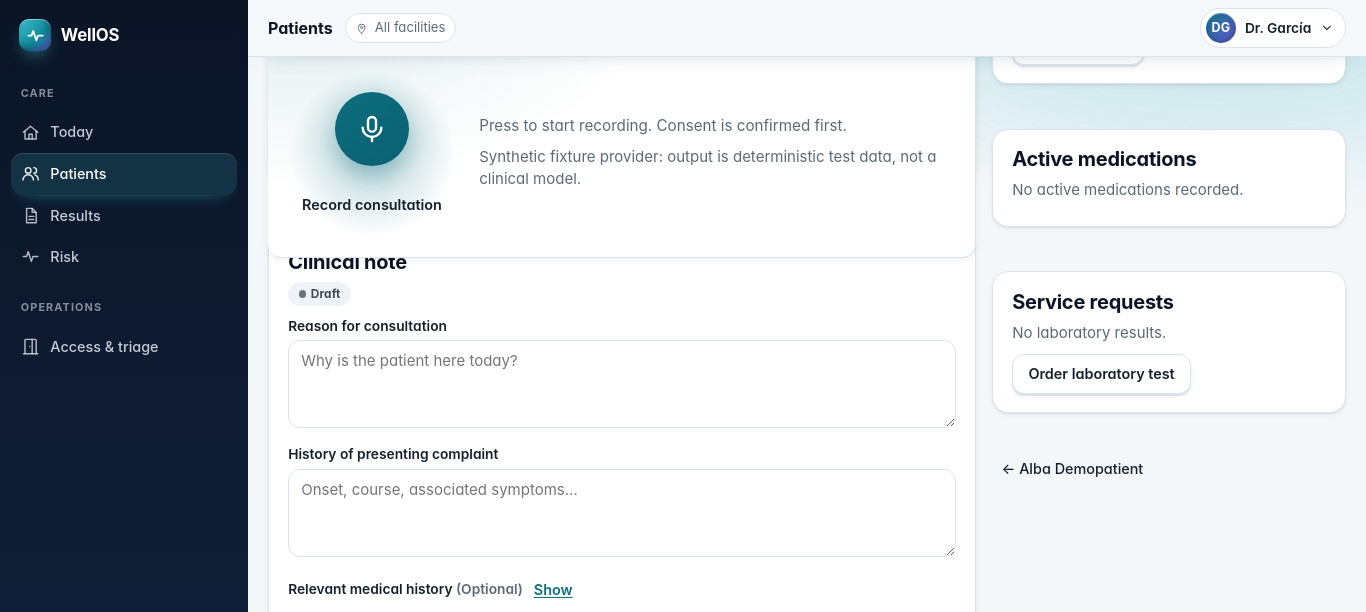
it: encounter documentation workspace › marks unsaved changes and saves the draft
(page scrolled)
Type "Chest pain" into the text box labelled "Reason for consultation" at (622, 384), box [288,340,956,428]
(page scrolled)
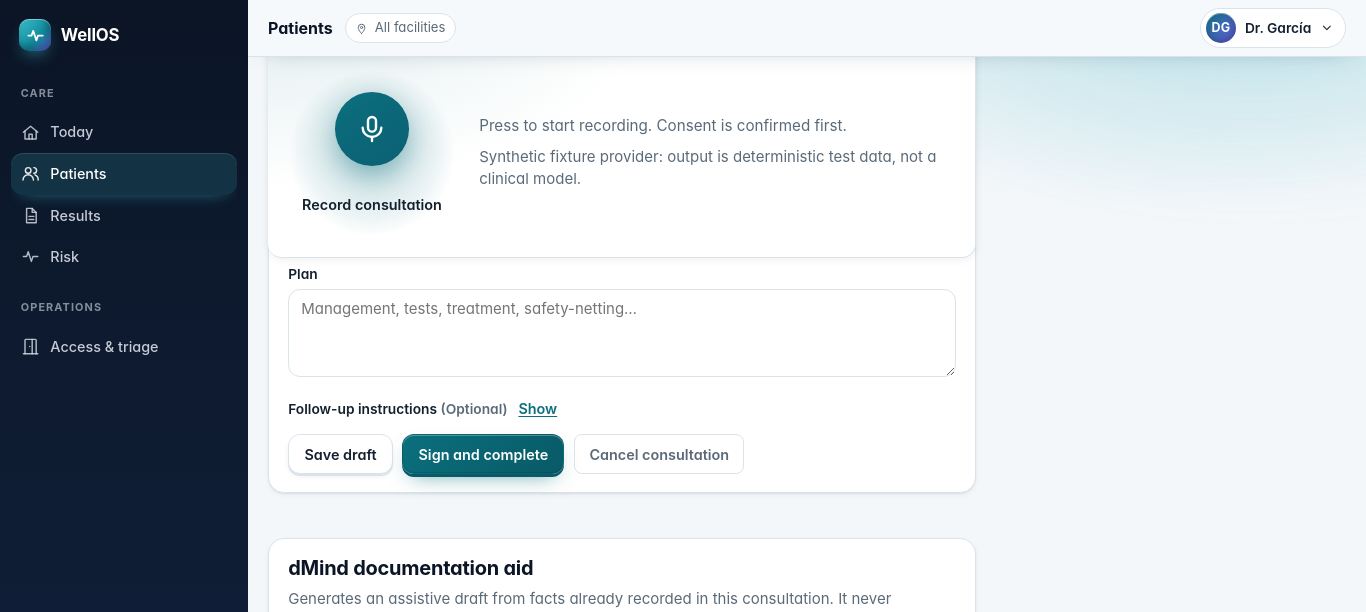
Click the button "Save draft" at (340, 454), box [288,434,393,474]
(page scrolled)
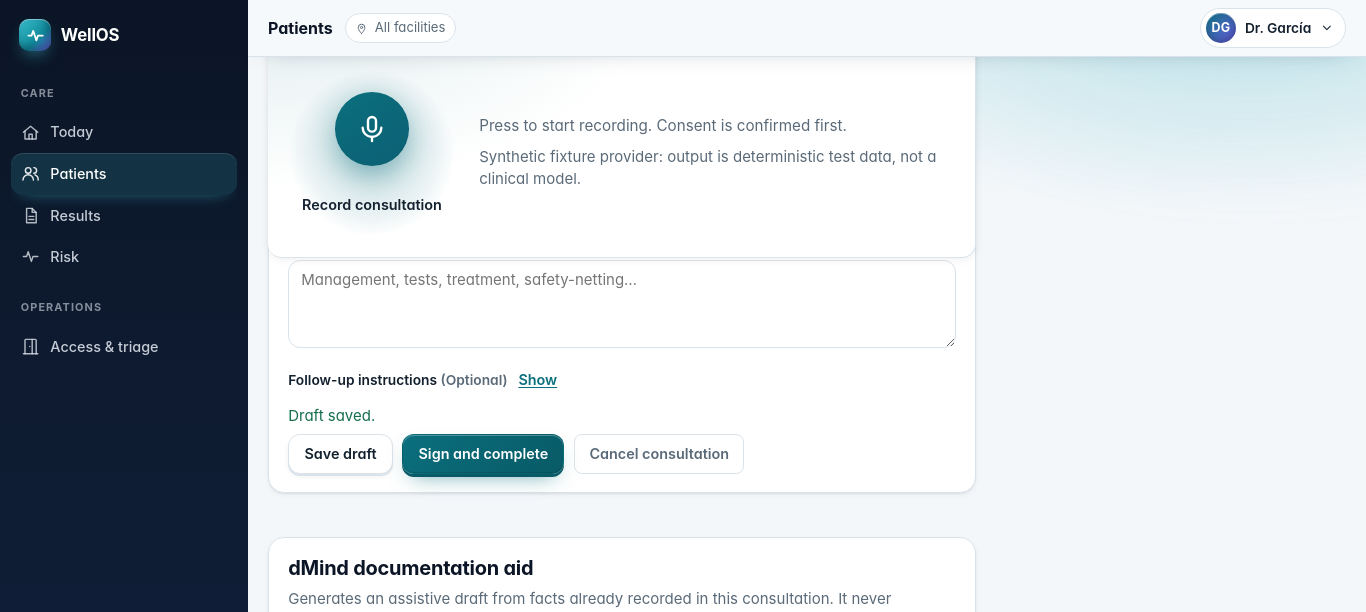
Now the text "Draft saved." is shown, box [288,406,375,425]
